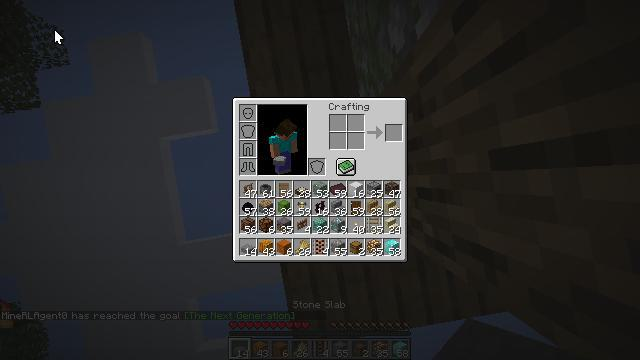cursor: (54, 29, 64, 45)
